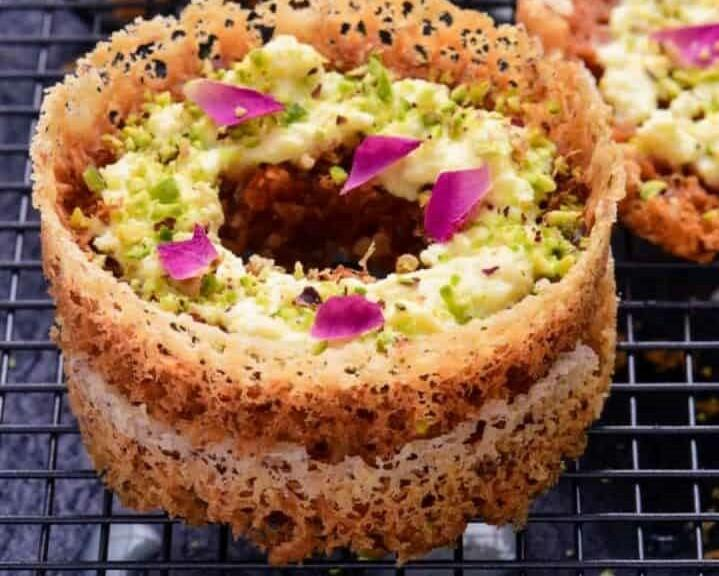Ghevar: (26, 0, 626, 446), (48, 240, 618, 561), (513, 0, 719, 262)
